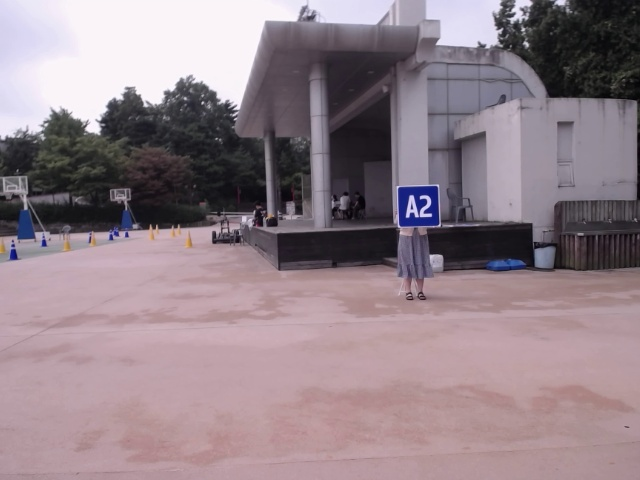delivery_a2: (397, 185, 441, 228)
